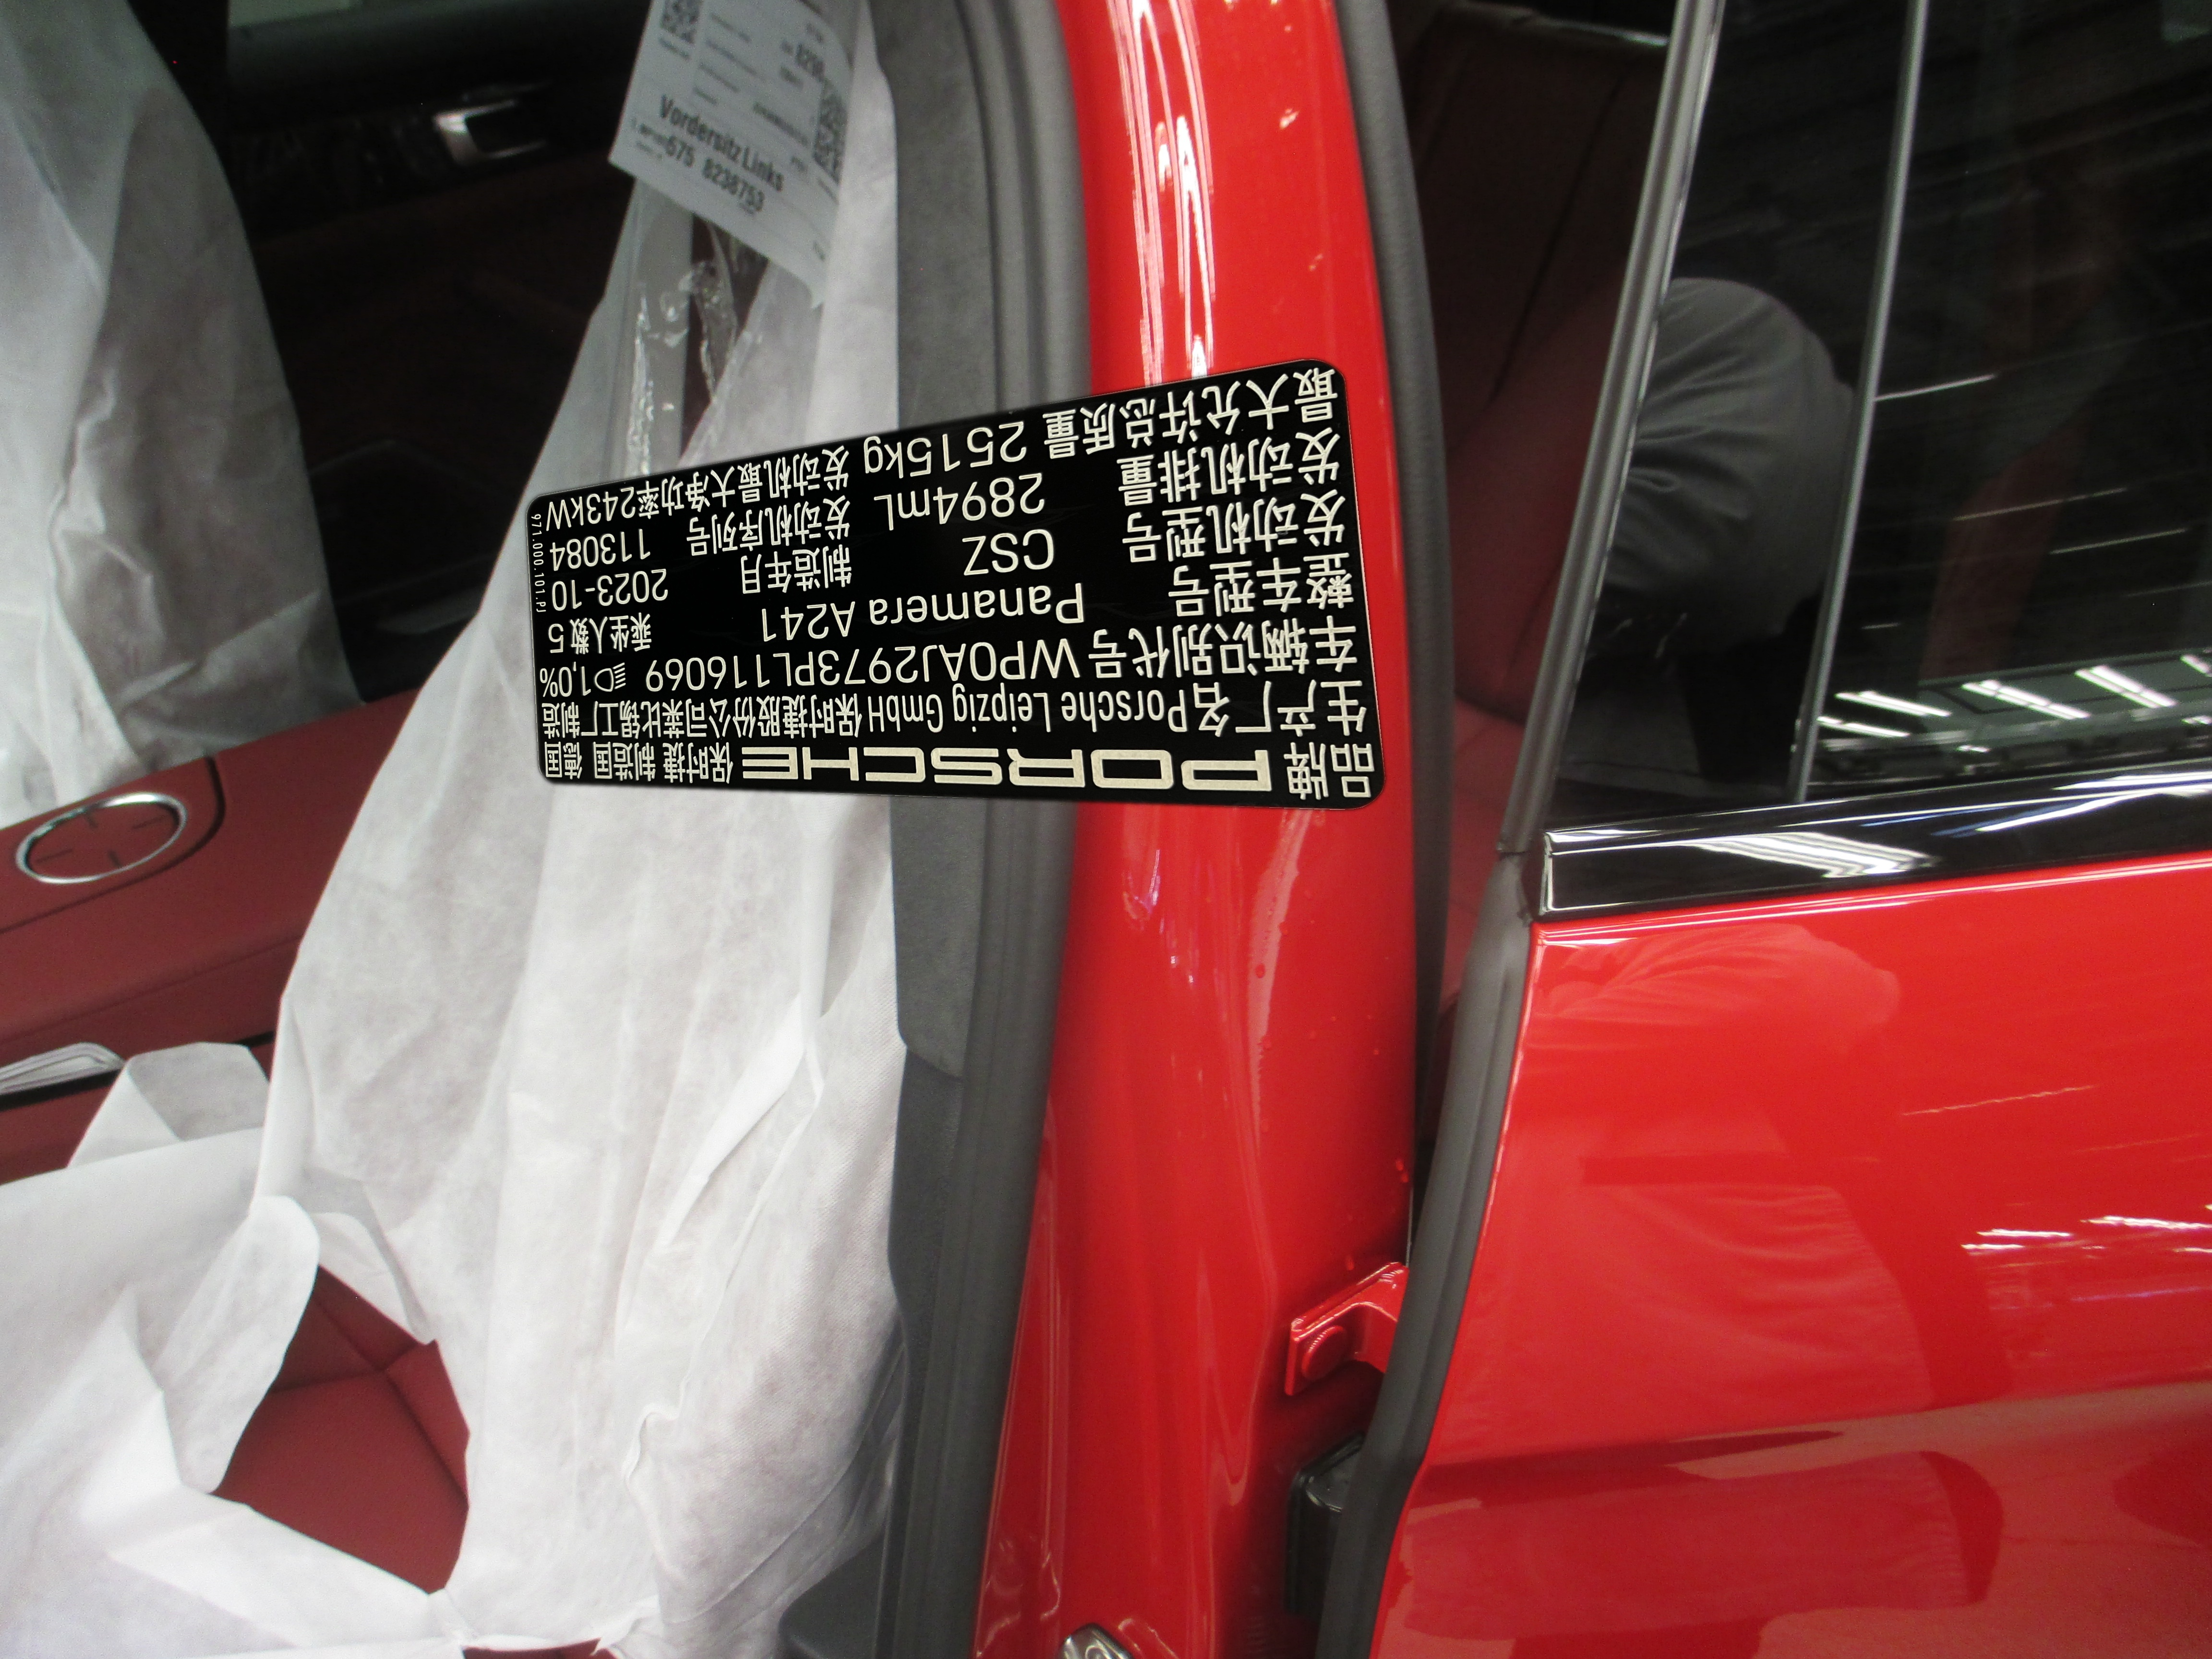Typlabel-China: (526, 359, 1385, 809)
